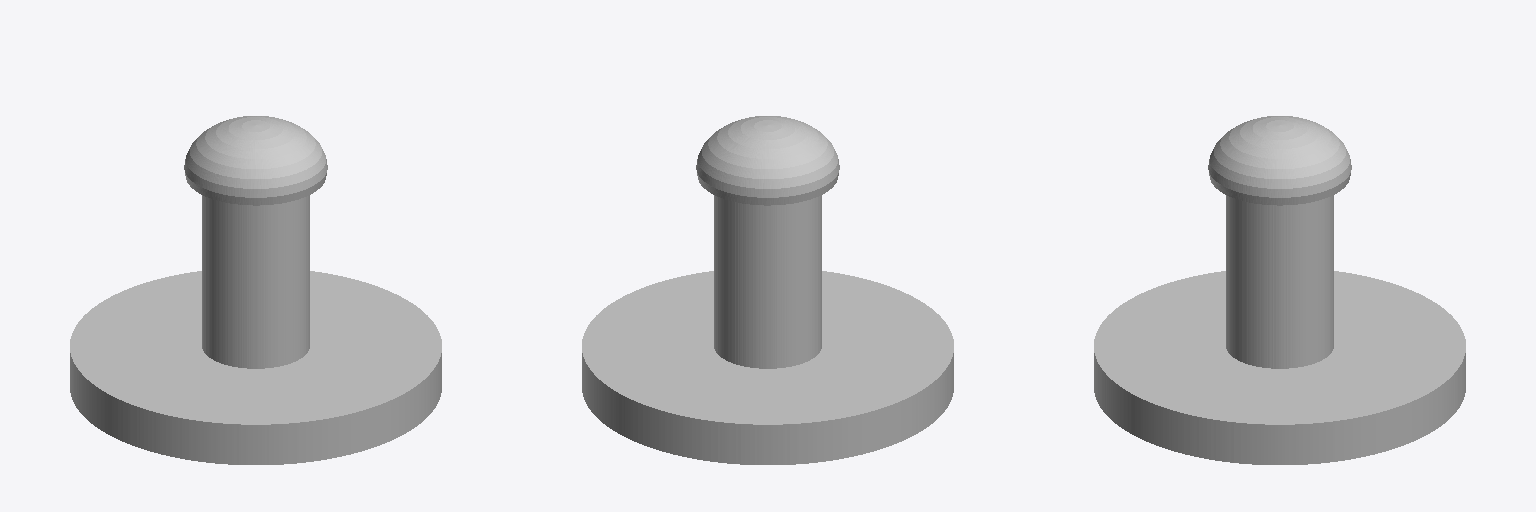
The model's file is Pieza reloj.obj.
3 views of the same model, side by side, from view 1: azimuth 30°, elevation 25°; view 2: azimuth 150°, elevation 25°; view 3: azimuth 270°, elevation 25° (orthographic).
Visible parts, largest first — view 1: Base, Palo, Pirolo; view 2: Base, Palo, Pirolo; view 3: Base, Palo, Pirolo.
Boxes of the visible parts, <box> form: Base: <box>70,271,441,464</box>; Palo: <box>202,195,309,368</box>; Pirolo: <box>184,116,327,205</box>; Base: <box>582,271,953,464</box>; Palo: <box>714,195,821,368</box>; Pirolo: <box>696,116,839,205</box>; Base: <box>1094,271,1465,464</box>; Palo: <box>1226,195,1333,368</box>; Pirolo: <box>1208,116,1351,205</box>.
Size of the model in its own units: 0.0083 by 0.0064 by 0.0083.